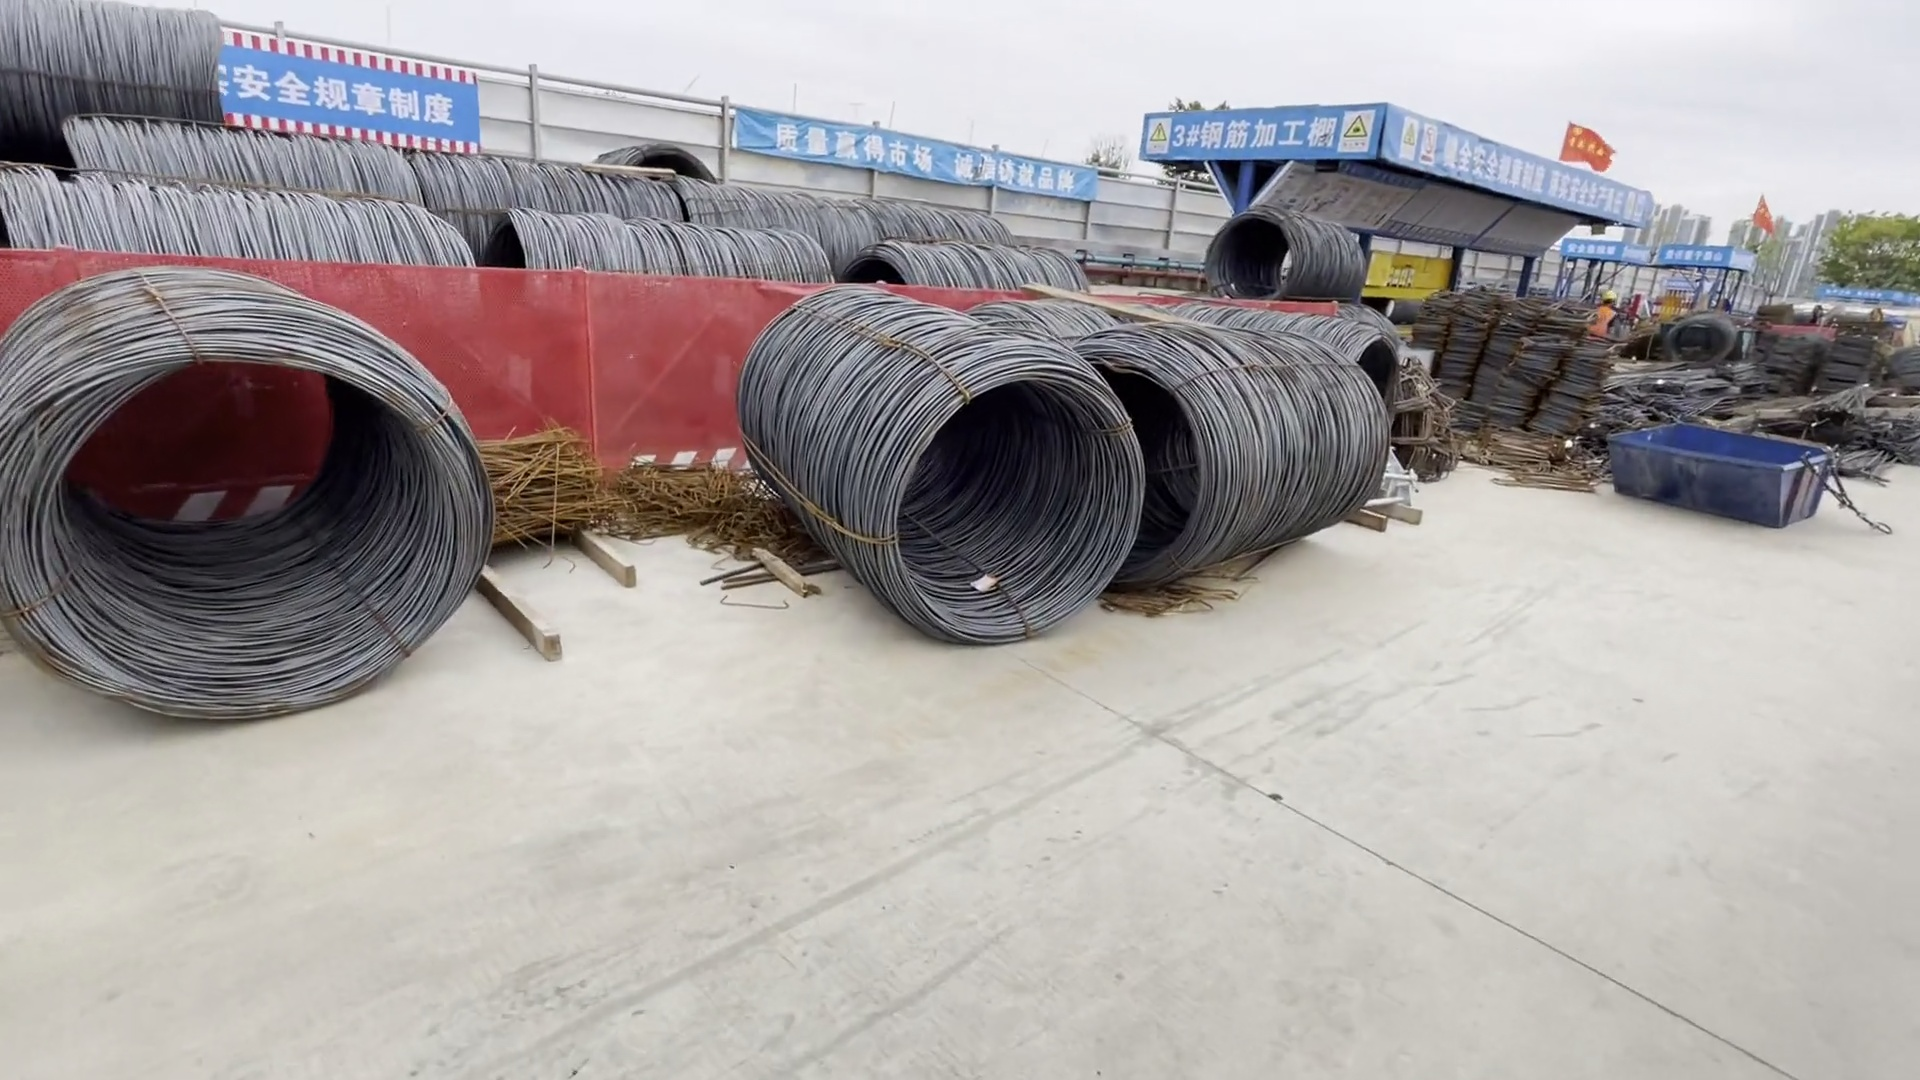ebox: (1362, 246, 1439, 295)
fence: (443, 274, 784, 485)
helmet: (1599, 290, 1613, 301)
hopper: (1598, 412, 1845, 540)
person: (1584, 290, 1616, 350)
rebar: (1818, 389, 1906, 467), (1619, 362, 1719, 414)
slogan: (207, 37, 502, 150), (749, 109, 1102, 197), (1381, 107, 1658, 217)
vest: (1586, 306, 1612, 336)
